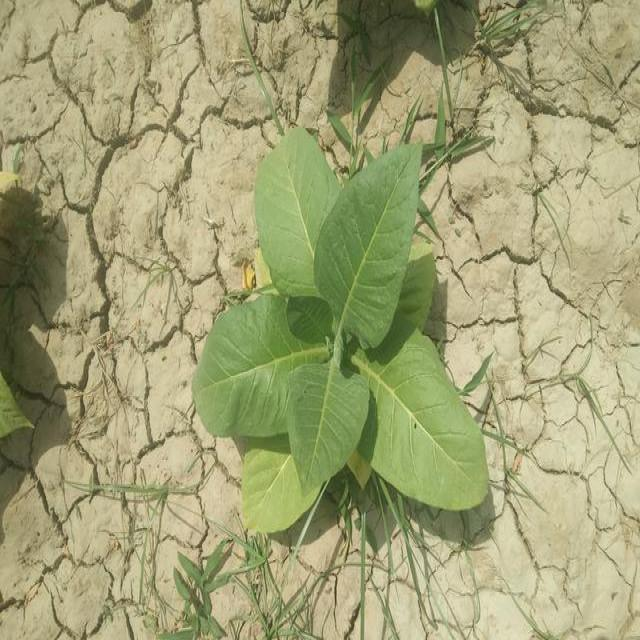crop: (194, 130, 491, 538)
